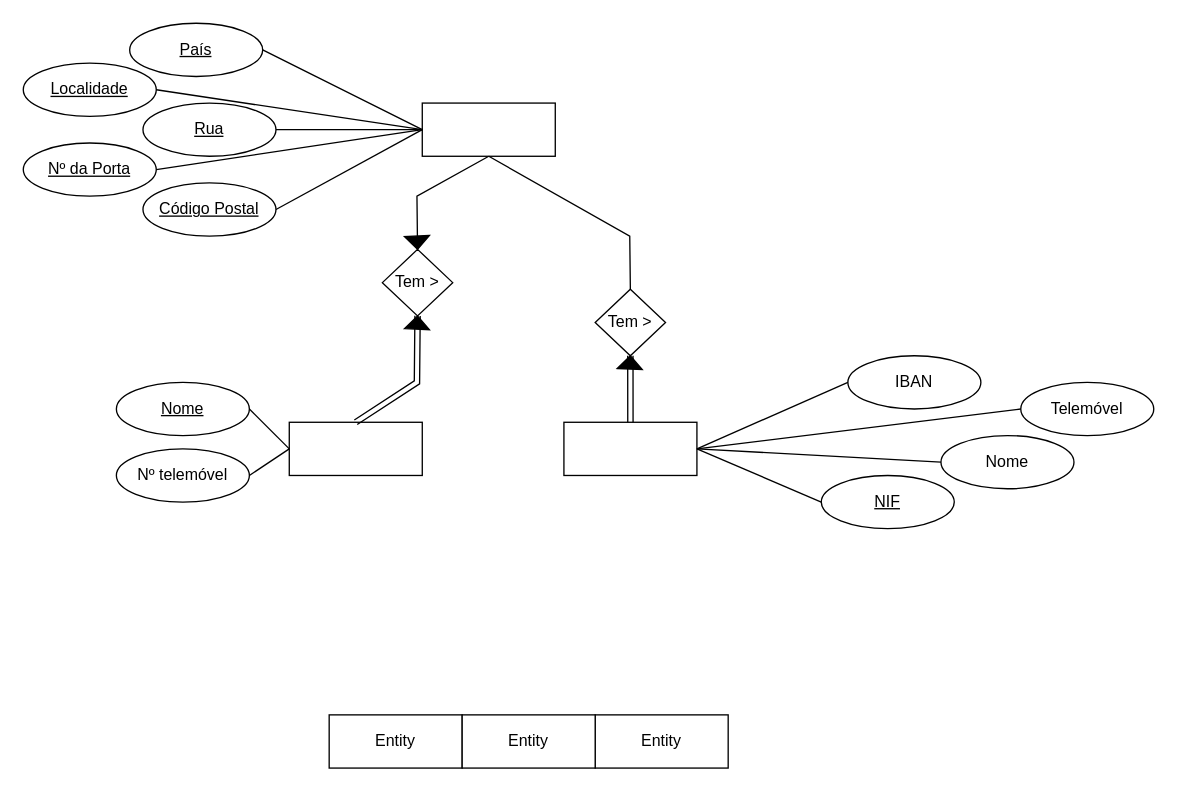
Some shapes in this 1177 by 791 pixel diagram are drawn without their labels. The shapes that lost their labels are listed below. From the top down, each one's box as (x1, y1, x2, y2) in pixels, then its label:
(421, 102, 555, 156): Morada
(288, 421, 422, 475): Clínica
(563, 421, 697, 475): Profissional de Saúde
